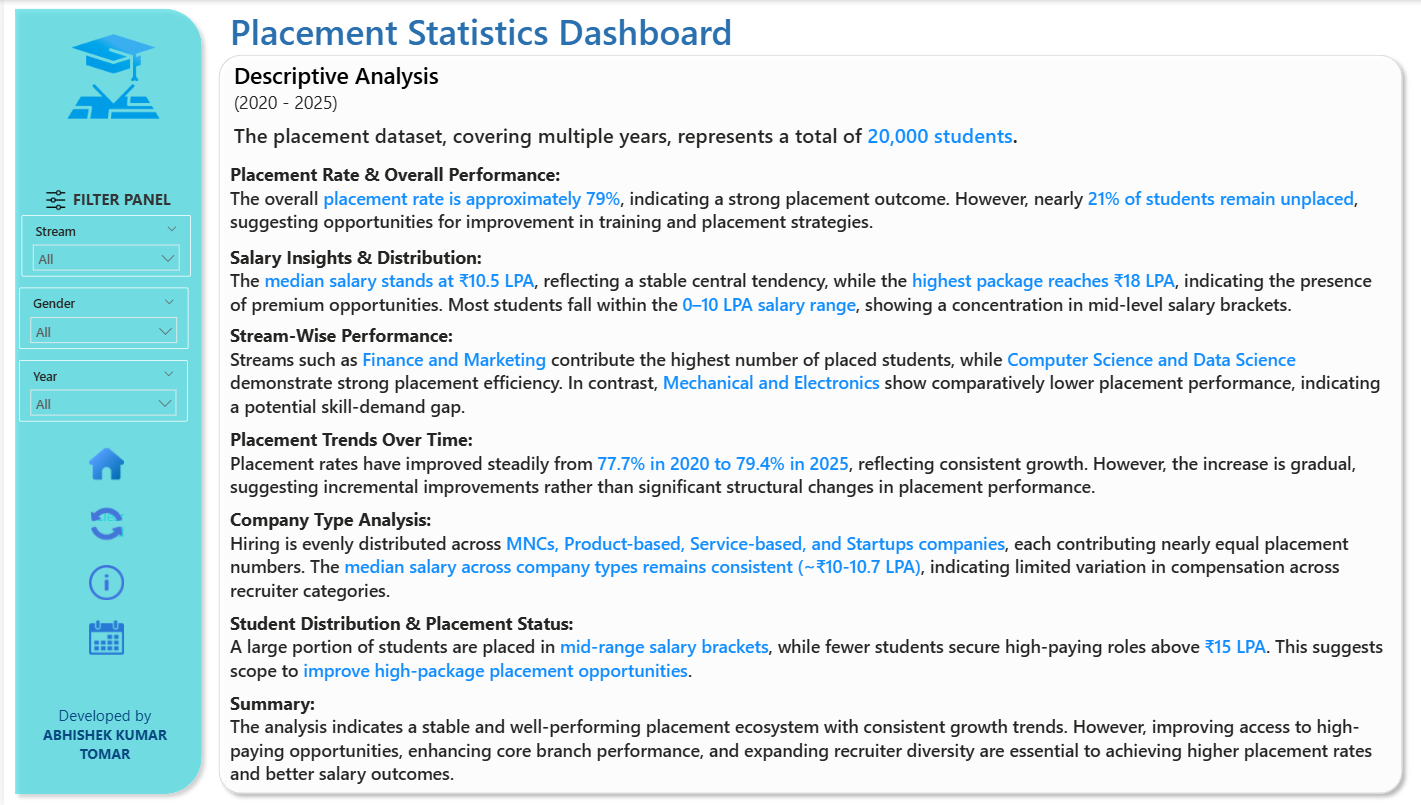

The dashboard page shown, as its layout file describes it:
{"tool":"powerbi","page":{"name":"Info","canvas":[1494,850],"ordinal":1},"visuals":[{"type":"shape","box":[2.9,0,214.5,845],"z":1000},{"type":"textbox","box":[233,2,544.2,59.7],"z":2000},{"type":"shape","box":[217.4,49.3,1263.8,795.7],"z":11000},{"type":"slicer","fields":{"Values":["Placement Dataset.Stream"]},"box":[18.8,226.1,178.3,65],"z":19000},{"type":"slicer","fields":{"Values":["Placement Dataset.Gender"]},"box":[15.9,302.9,178.3,65],"z":20000},{"type":"slicer","fields":{"Values":["Placement Dataset.Year"]},"box":[16,379,177.8,65],"z":21000},{"type":"textbox","box":[55.1,193,142,31.9],"z":22000},{"type":"image","box":[38,197,33,26],"z":23000},{"type":"image","box":[55.1,27.5,120.3,105.8],"z":24000},{"type":"textbox","box":[236.2,58,482.6,68.1],"z":24001},{"type":"textbox","box":[236.2,122,1227.5,47.8],"z":24002},{"type":"textbox","box":[233.3,166,1230.4,85],"z":24003},{"type":"textbox","box":[233.3,252,1230.4,84],"z":24004},{"type":"textbox","box":[233.3,336,1230.4,109],"z":24005},{"type":"textbox","box":[233.3,445,1230.4,84],"z":24006},{"type":"textbox","box":[233.3,529,1230.4,109],"z":24007},{"type":"textbox","box":[233.3,638,1230.4,84],"z":24008},{"type":"textbox","box":[233.3,722,1230.4,109],"z":24009},{"type":"actionButton","box":[85.5,465.2,44.9,44.9],"z":24010},{"type":"actionButton","box":[85.5,529,44.9,44.9],"z":24011},{"type":"actionButton","box":[85.5,591,45,45],"z":24012},{"type":"actionButton","box":[85.5,649.3,44.9,44.9],"z":24013},{"type":"textbox","box":[17.4,736.2,178.3,85.5],"z":24014}]}

Visuals, with their boxes in screenshot pixels (x1, y1, x2, y2), scaled from the page's 1494x850 canvas onto the 1421x805 screenshot:
shape: <box>3,0,207,800</box>
textbox: <box>222,2,739,58</box>
shape: <box>207,47,1409,800</box>
slicer - Placement Dataset.Stream: <box>18,214,187,276</box>
slicer - Placement Dataset.Gender: <box>15,287,185,348</box>
slicer - Placement Dataset.Year: <box>15,359,184,420</box>
textbox: <box>52,183,187,213</box>
image: <box>36,187,68,211</box>
image: <box>52,26,167,126</box>
textbox: <box>225,55,684,119</box>
textbox: <box>225,116,1392,161</box>
textbox: <box>222,157,1392,238</box>
textbox: <box>222,239,1392,318</box>
textbox: <box>222,318,1392,421</box>
textbox: <box>222,421,1392,501</box>
textbox: <box>222,501,1392,604</box>
textbox: <box>222,604,1392,684</box>
textbox: <box>222,684,1392,787</box>
actionButton: <box>81,441,124,483</box>
actionButton: <box>81,501,124,544</box>
actionButton: <box>81,560,124,602</box>
actionButton: <box>81,615,124,657</box>
textbox: <box>17,697,186,778</box>
